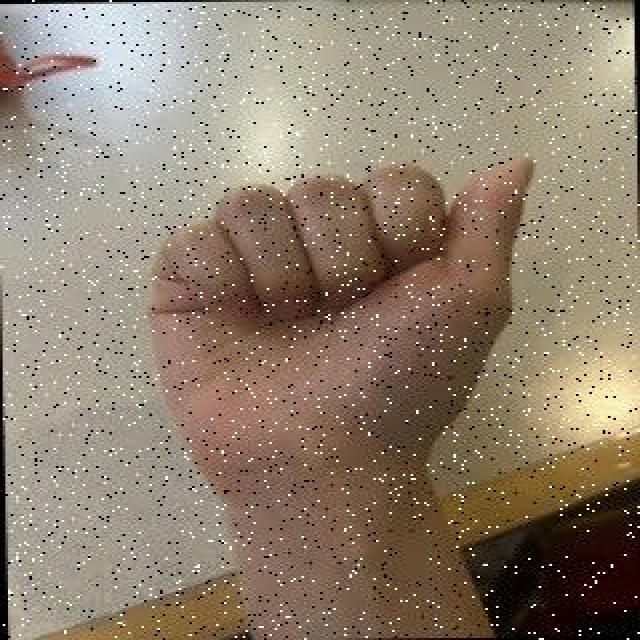A: (140, 153, 545, 515)
